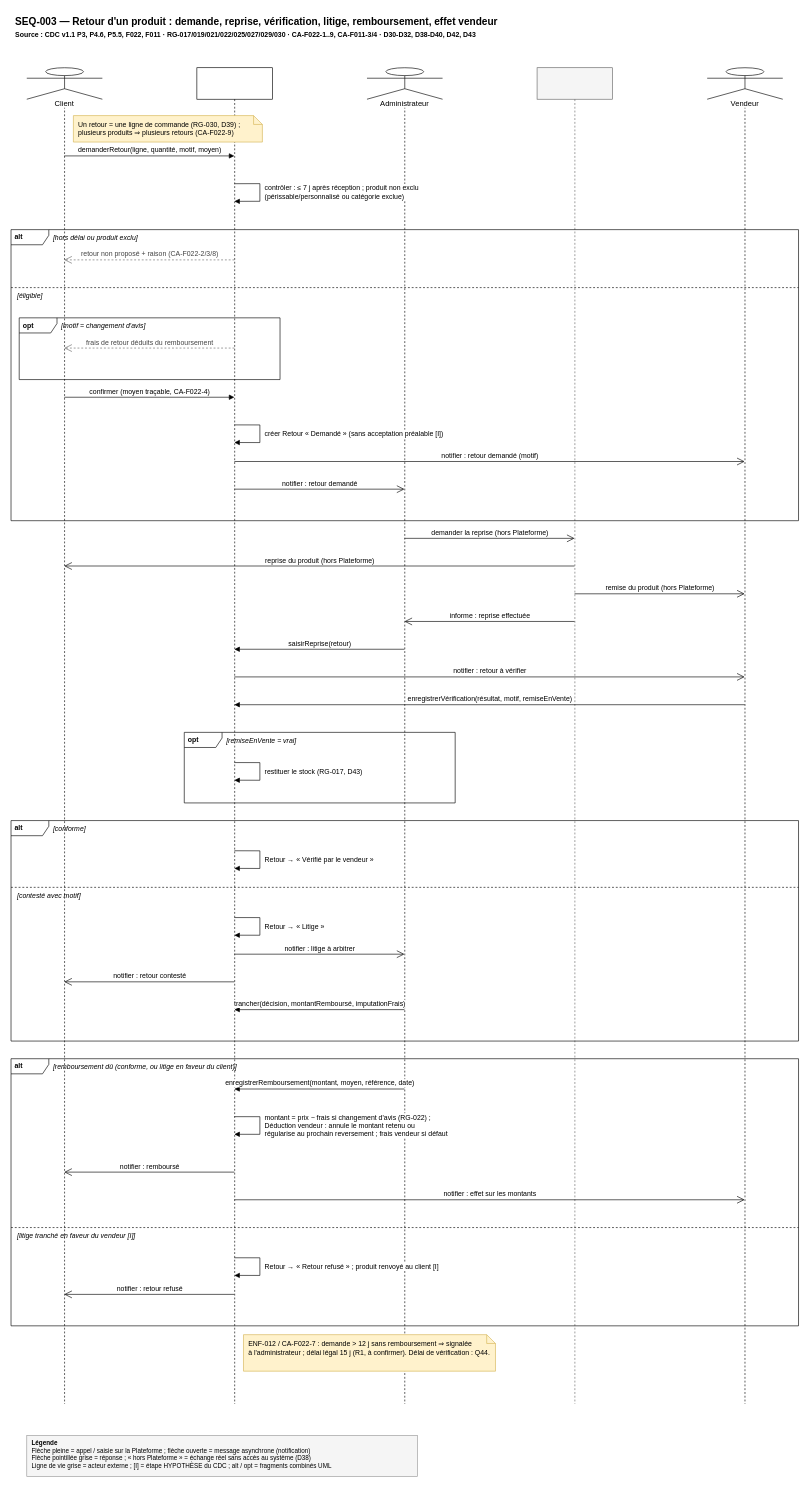
The diagram is 810 pixels wide and 1487 high, and some of its shapes have lost their labels. Here are the shapes that lost their labels. From the top down, the box of each, then its label:
(196, 67, 272, 1404): Plateforme
(536, 67, 613, 1404): Société de livraison «externe»
